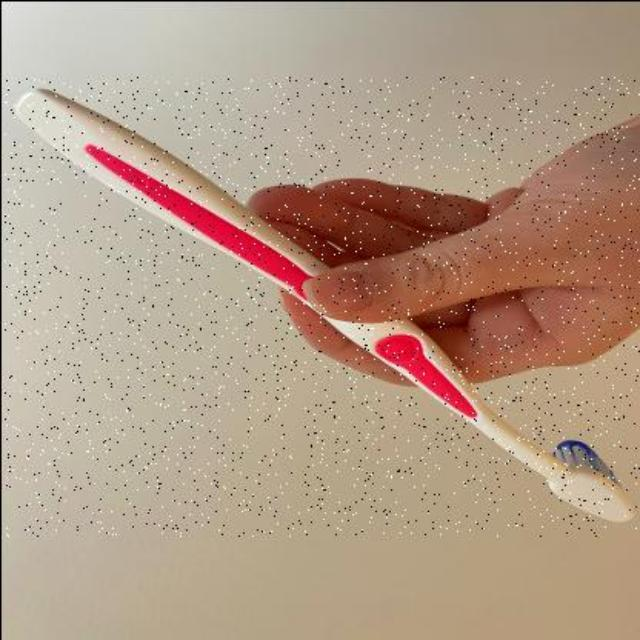toothbrush: (4, 75, 640, 535)
